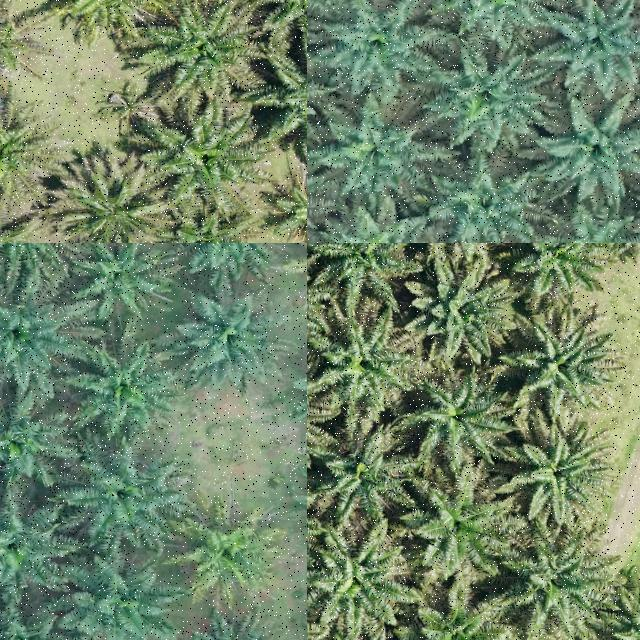Ganoderma: (190, 522, 268, 588), (0, 6, 43, 74)
